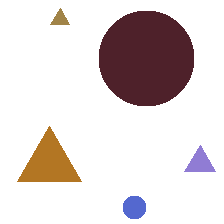circle: (99, 11, 193, 105), (123, 196, 145, 218)
triangle: (17, 126, 81, 181), (184, 145, 215, 171), (50, 8, 69, 24)
